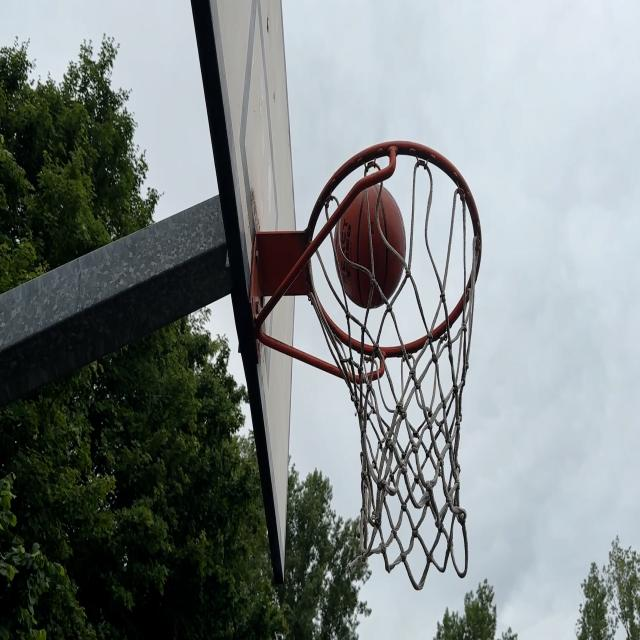Basketball: (330, 164, 405, 310)
